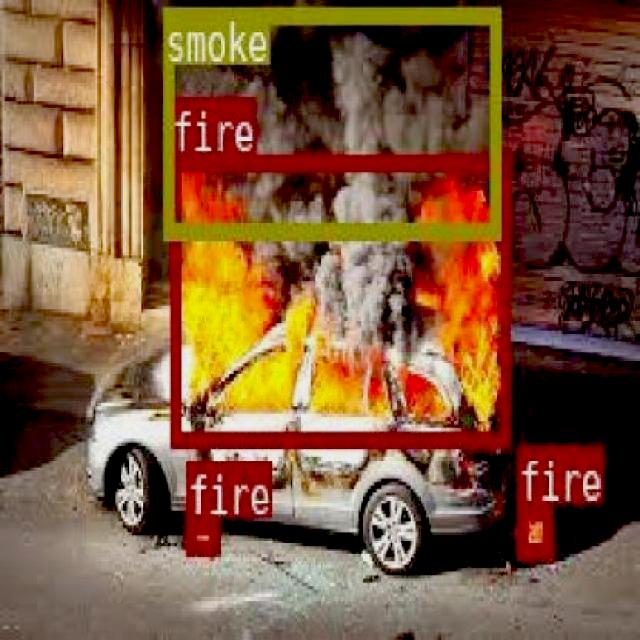fire: (168, 153, 508, 444), (516, 500, 552, 557), (185, 517, 218, 551)
smoke: (162, 4, 498, 238)
